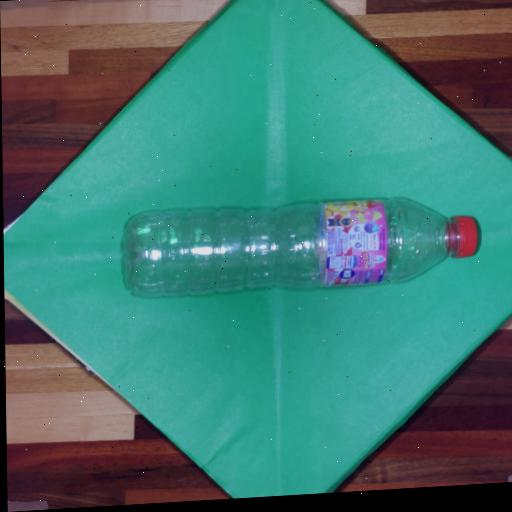bottle: (121, 189, 480, 301)
